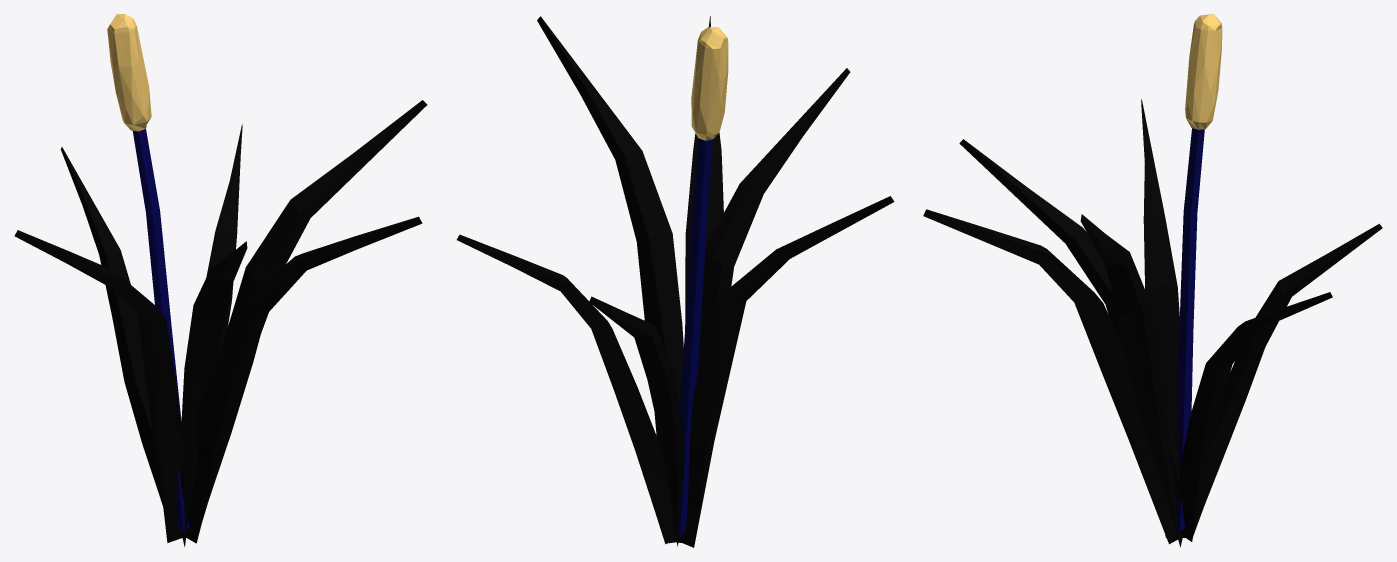
The model's file is PatchReed01.fbx.
The picture shows the model from 3 angles, left to right: view 1: azimuth 30°, elevation 25°; view 2: azimuth 150°, elevation 25°; view 3: azimuth 270°, elevation 25°; orthographic projection. The views are drawn at different scales.
Visible parts, largest first — view 1: Reed01; view 2: Reed01; view 3: Reed01.
Part boxes in pixels (x1,y1,x2,y2): Reed01: (14, 14, 427, 547); Reed01: (456, 16, 894, 547); Reed01: (923, 14, 1382, 547).
Size of the model in its own units: 103 by 137 by 113.
